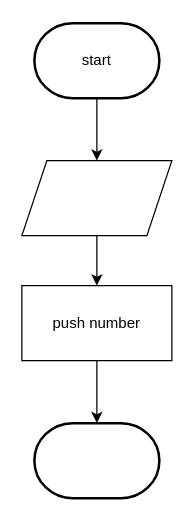
The diagram is 194 pixels wide and 520 high, and some of its shapes have lost their labels. Here are the shapes that lost their labels. From the top down, the centre of each, then its label:
At (96,197): "get stack".
At (96,460): "stop".
